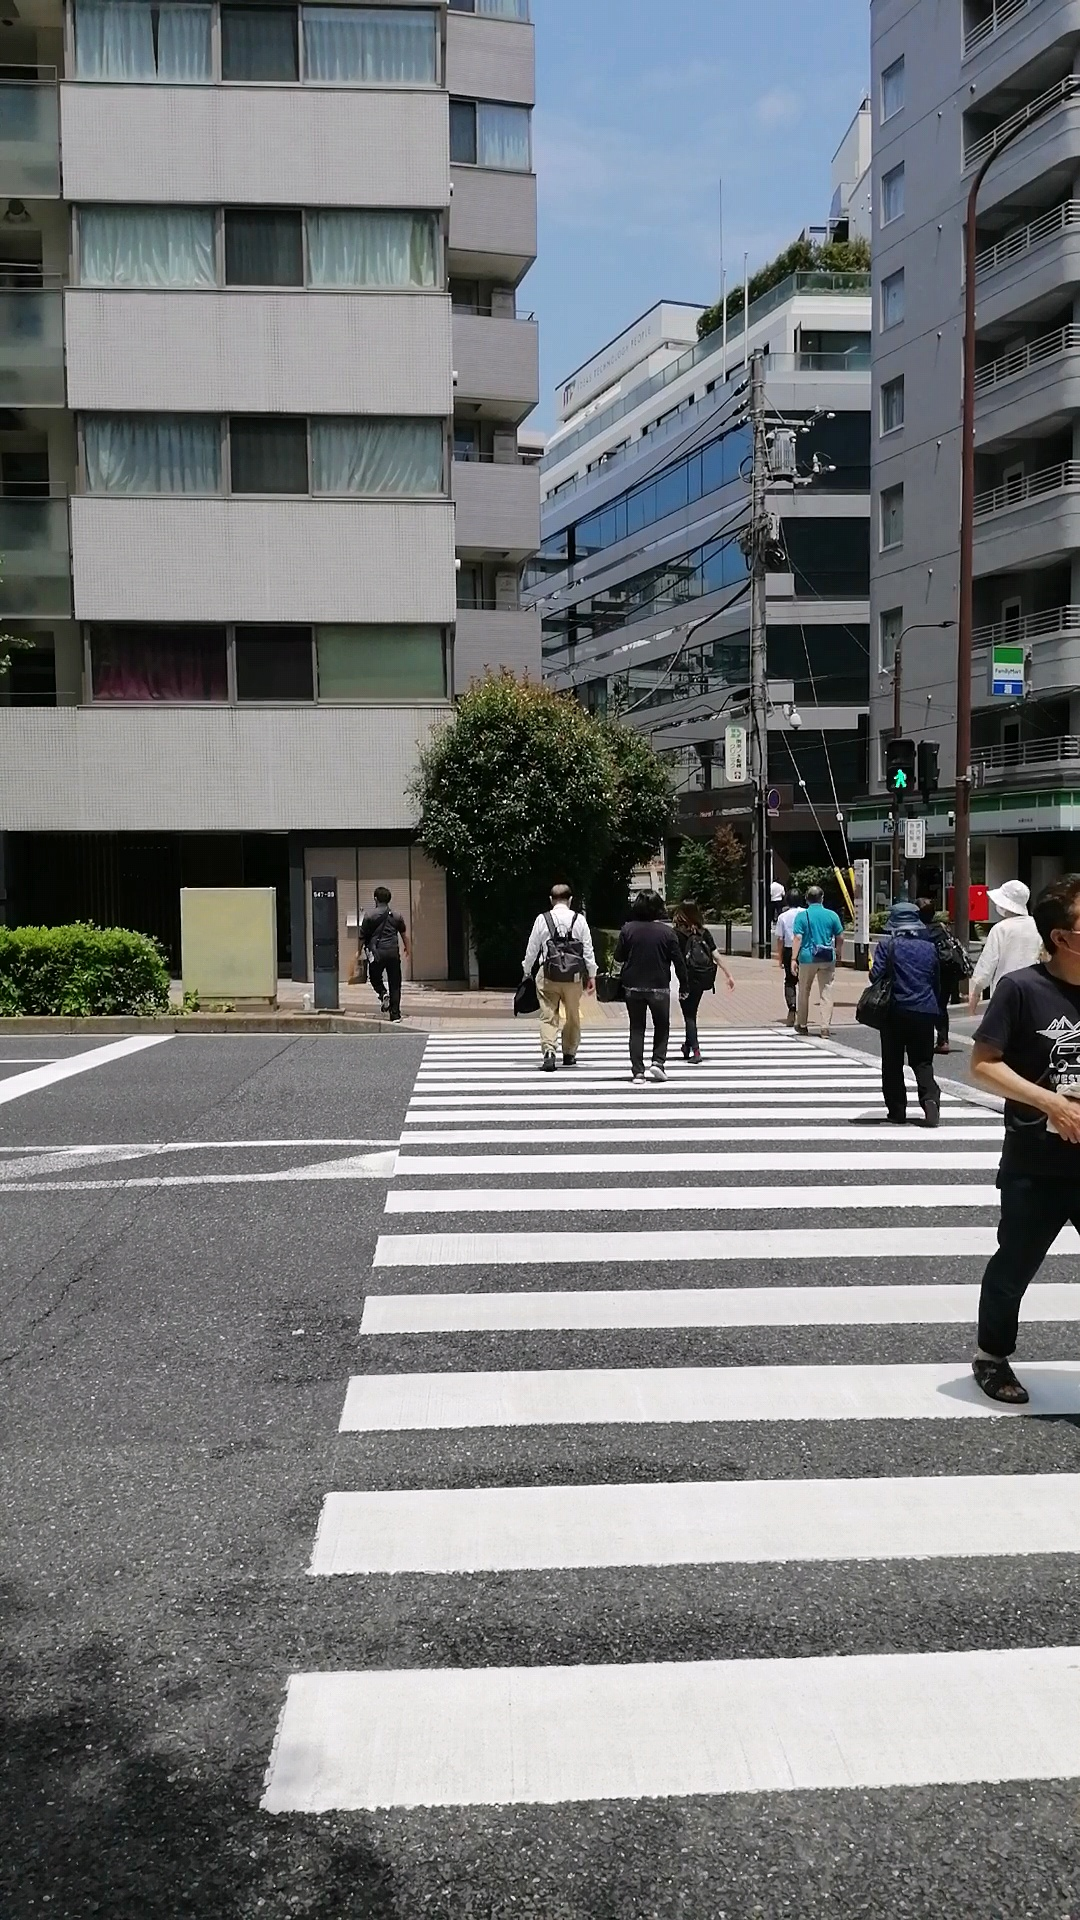green: (886, 738, 914, 793)
